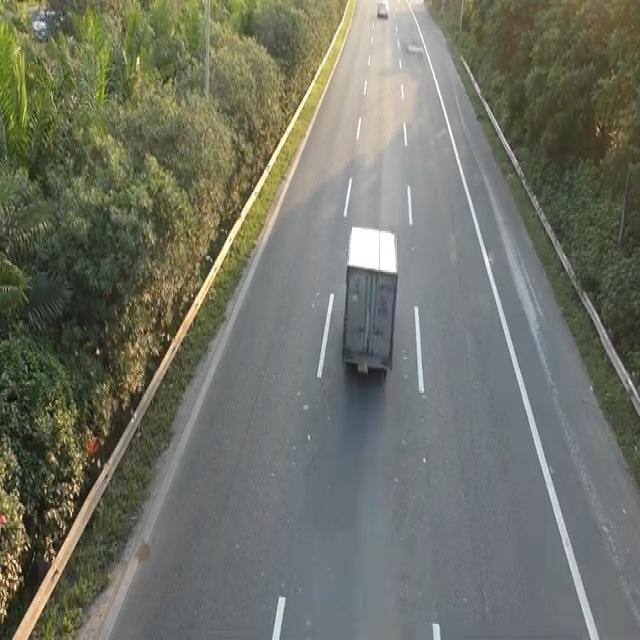minivan: (339, 220, 400, 380)
